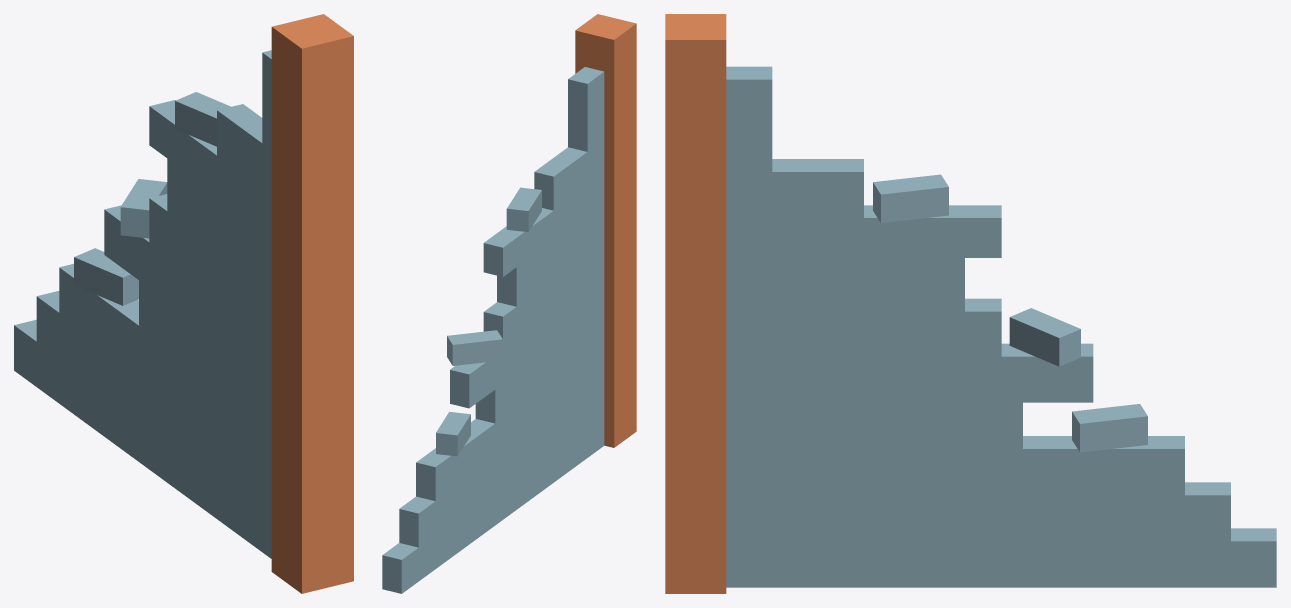
The model's file is wallBroken.fbx.
The picture shows the model from 3 angles, left to right: view 1: azimuth 30°, elevation 25°; view 2: azimuth 150°, elevation 25°; view 3: azimuth 270°, elevation 25°; orthographic projection. The views are drawn at different scales.
Parts seen in each view (by area): view 1: wallBroken; view 2: wallBroken; view 3: wallBroken.
Part boxes in pixels (bbox=[...]): wallBroken: bbox=[14, 14, 353, 593]; wallBroken: bbox=[382, 14, 636, 593]; wallBroken: bbox=[665, 14, 1276, 593].
Bounding box in the file's own units: 1.17 × 10 × 10.
